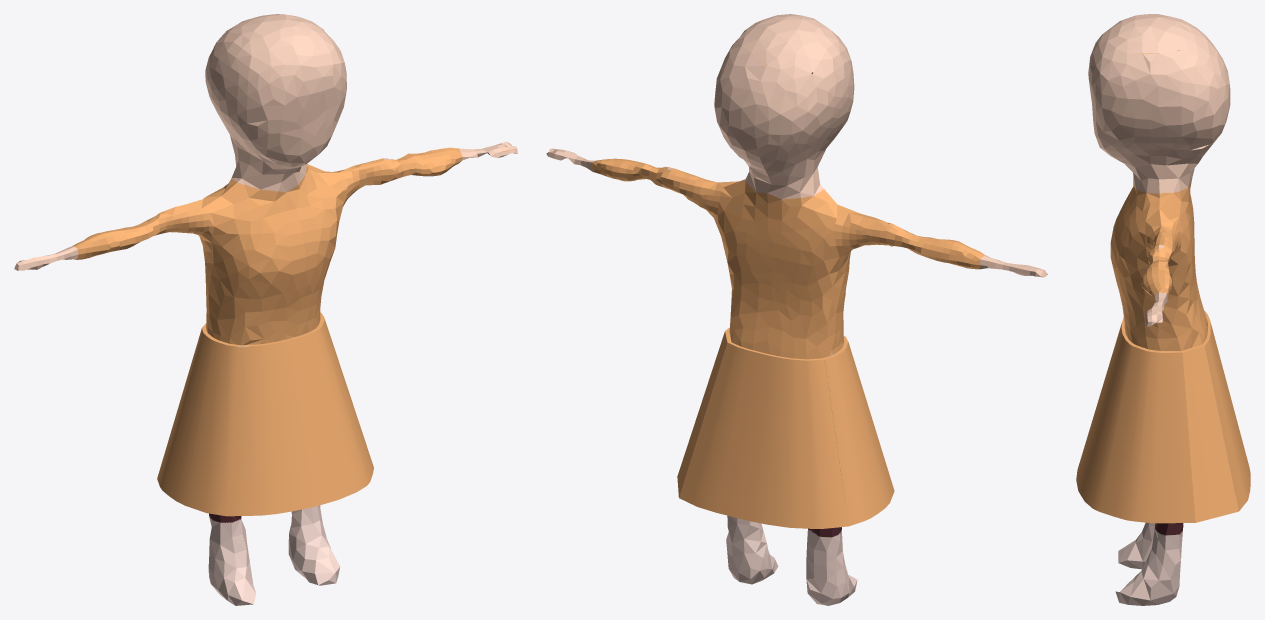
File: girl_2.fbx
The picture shows the model from 3 angles, left to right: view 1: azimuth 30°, elevation 25°; view 2: azimuth 150°, elevation 25°; view 3: azimuth 270°, elevation 25°; orthographic projection.
Parts seen in each view (by area): view 1: girl_2; view 2: girl_2; view 3: girl_2.
Boxes of the visible parts, x1=… form: girl_2: x1=14, y1=14, x2=517, y2=605; girl_2: x1=546, y1=14, x2=1047, y2=605; girl_2: x1=1076, y1=14, x2=1250, y2=605.
Bounding box in the file's own units: 290 × 314 × 87.91.
Materials: 1 (1 with a texture image).
